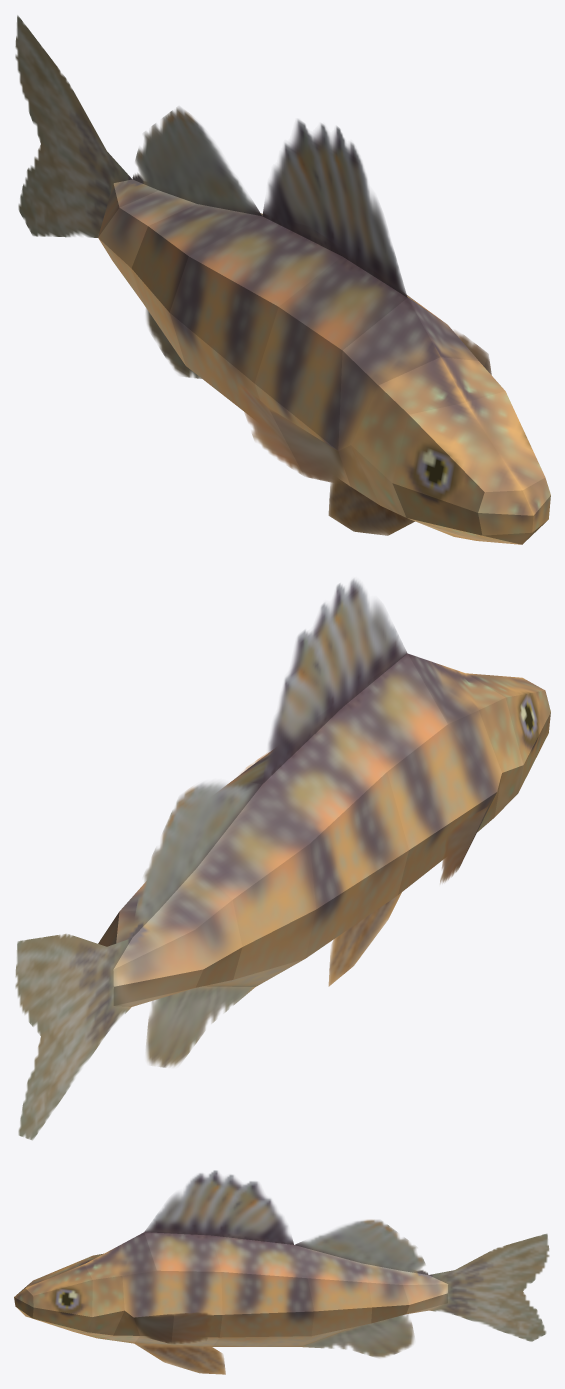
Rendered from perch.glb.
3 views of the same model, one above another, from view 1: azimuth 30°, elevation 25°; view 2: azimuth 150°, elevation 25°; view 3: azimuth 270°, elevation 25° (orthographic). The views are drawn at different scales.
Parts seen in each view (by area): view 1: Cube; view 2: Cube; view 3: Cube.
Part boxes in pixels (bbox=[...]): Cube: bbox=[15, 15, 550, 544]; Cube: bbox=[15, 578, 550, 1140]; Cube: bbox=[14, 1170, 549, 1374].
Size of the model in its own units: 2.53 by 4.36 by 10.32.
Materials: 1 (1 with a texture image).
